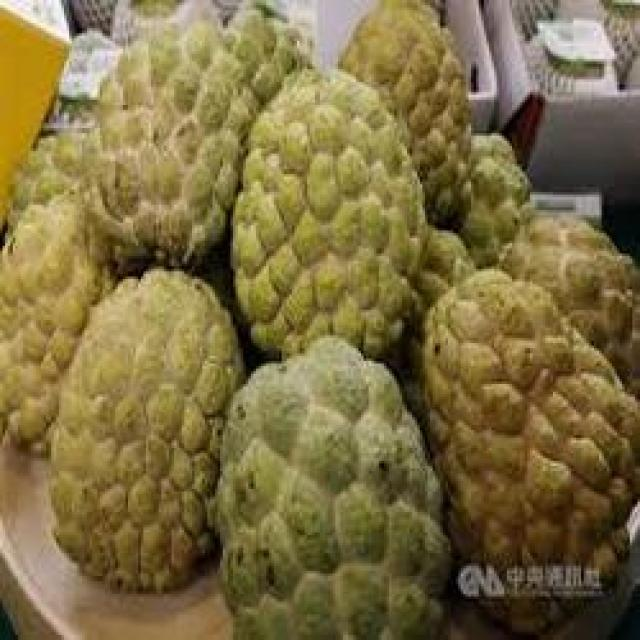apple: (420, 266, 640, 592), (222, 348, 456, 640), (240, 66, 438, 368), (54, 272, 235, 586), (90, 15, 264, 282)
